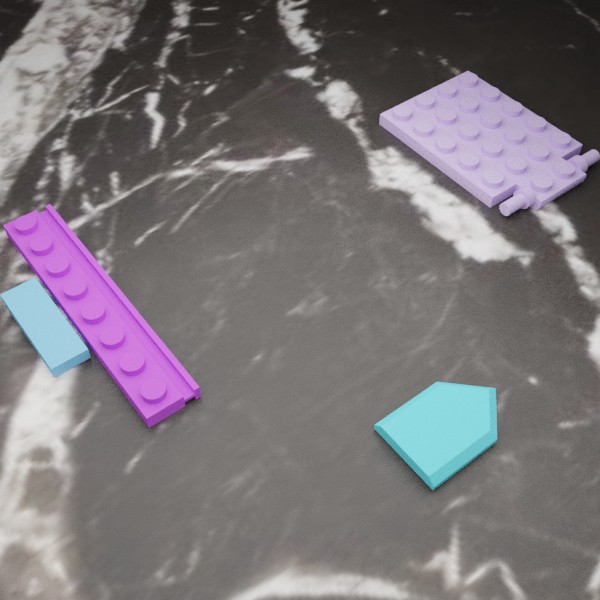lego: (3, 203, 201, 427), (379, 70, 600, 215), (374, 381, 497, 490), (0, 277, 90, 377)
